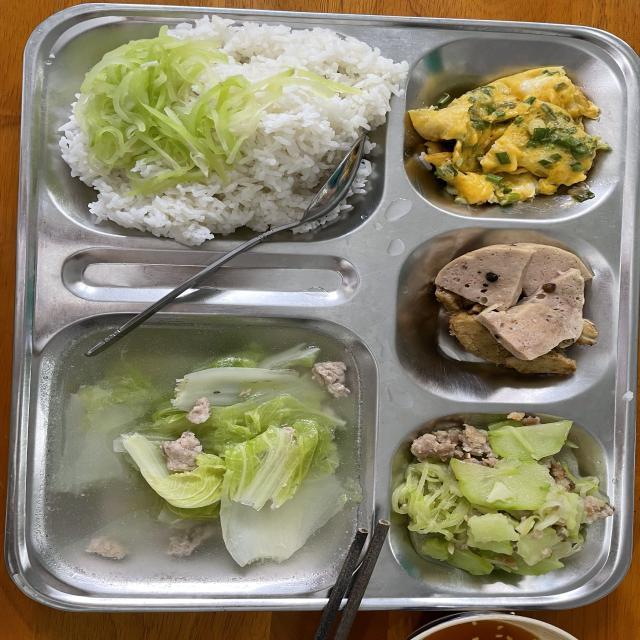trung_chien: (436, 52, 615, 198)
